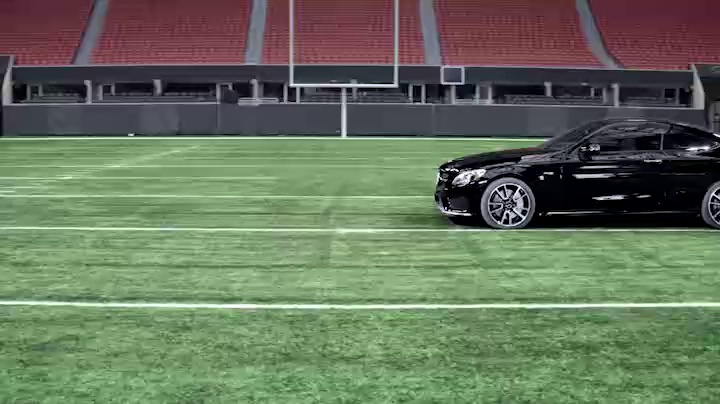amg: (437, 117, 720, 236)
